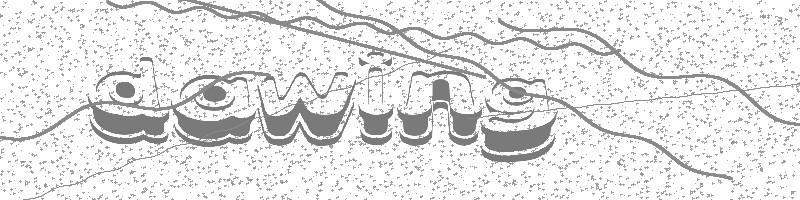a: (170, 74, 256, 147)
d: (88, 57, 170, 143)
g: (481, 78, 557, 161)
i: (359, 52, 394, 145)
n: (398, 71, 481, 145)
w: (257, 72, 354, 146)
